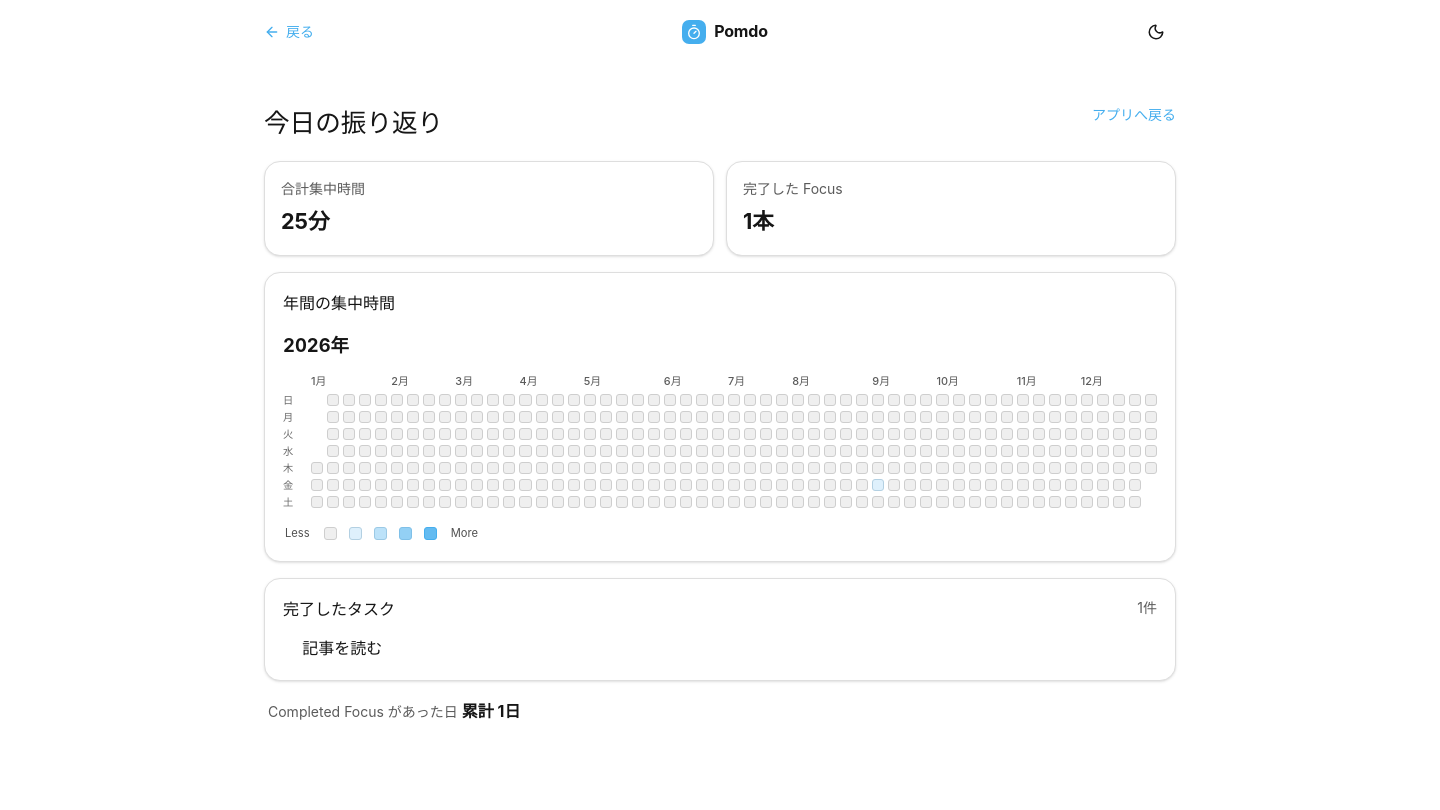
Test: ReviewPage › テーマ保存に失敗しても表示テーマを維持し Toast を表示する
What coordinates should you click on to do the following:
click the checkbox named "ダークテーマに切り替え"
I would click on:
 (1156, 32)
Its box is [1136,12,1176,52].
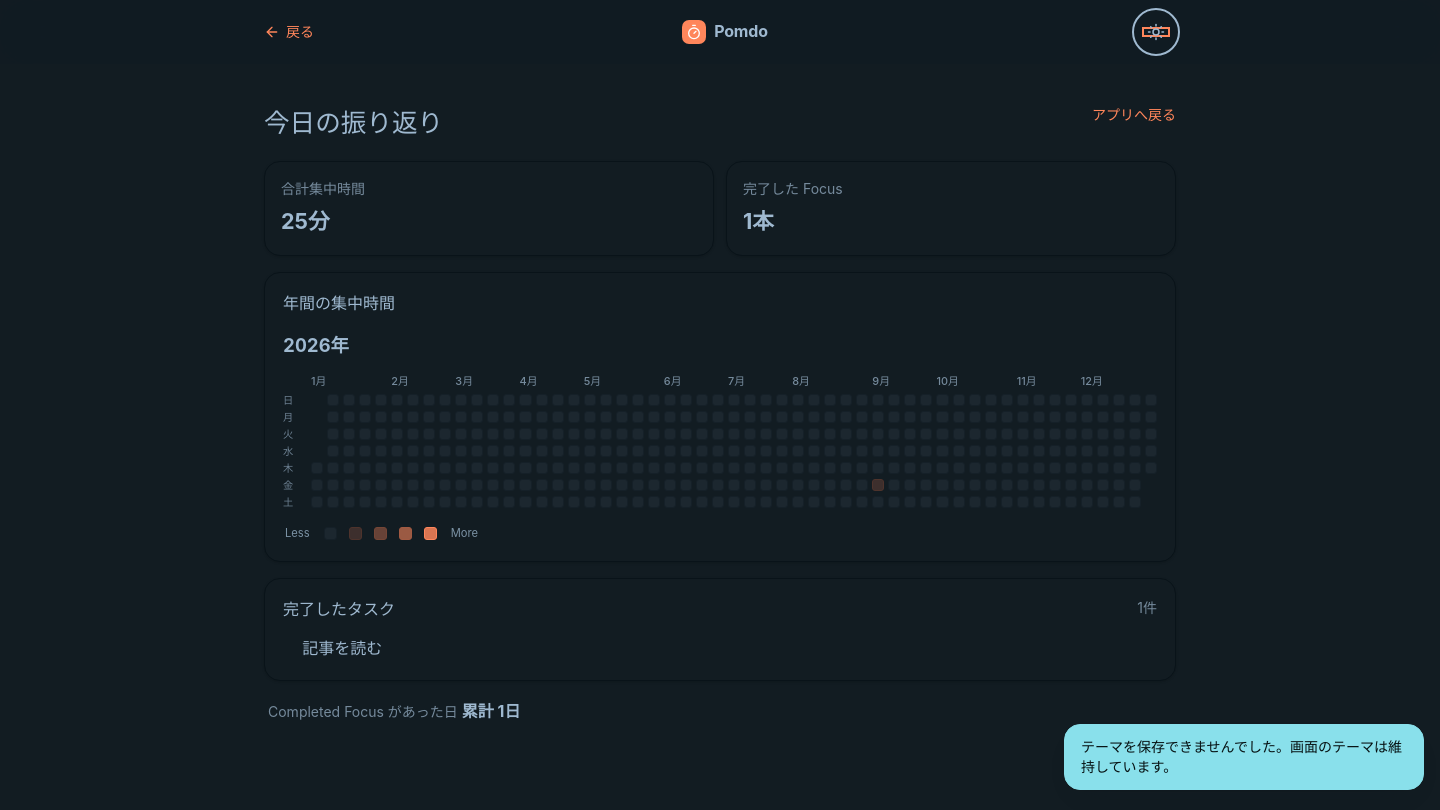
Expected: the text "テーマを保存できませんでした。画面のテーマは維持しています。" is shown, [1064,724,1424,790]
